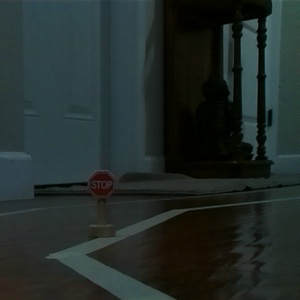stop sign: (85, 167, 118, 241)
